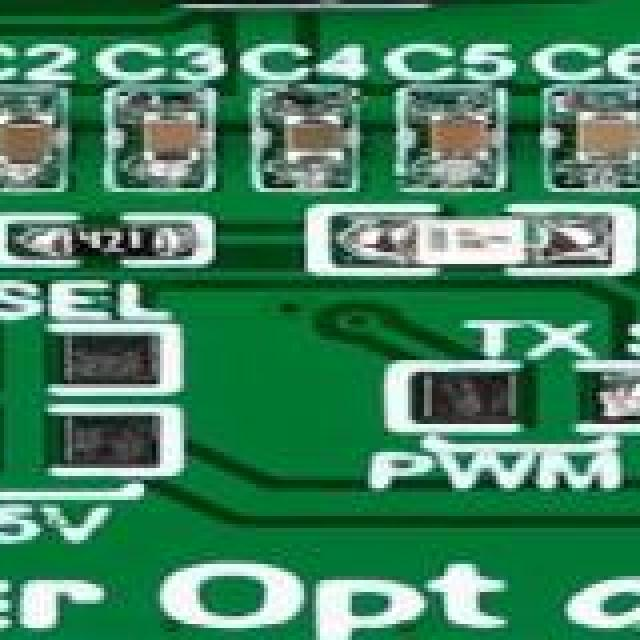IC: (76, 0, 552, 8)
LED: (380, 212, 606, 264)
capacitor: (280, 104, 366, 176), (140, 100, 208, 172), (424, 104, 496, 168), (576, 108, 640, 180), (0, 108, 56, 184)
resistor: (28, 220, 198, 254)
